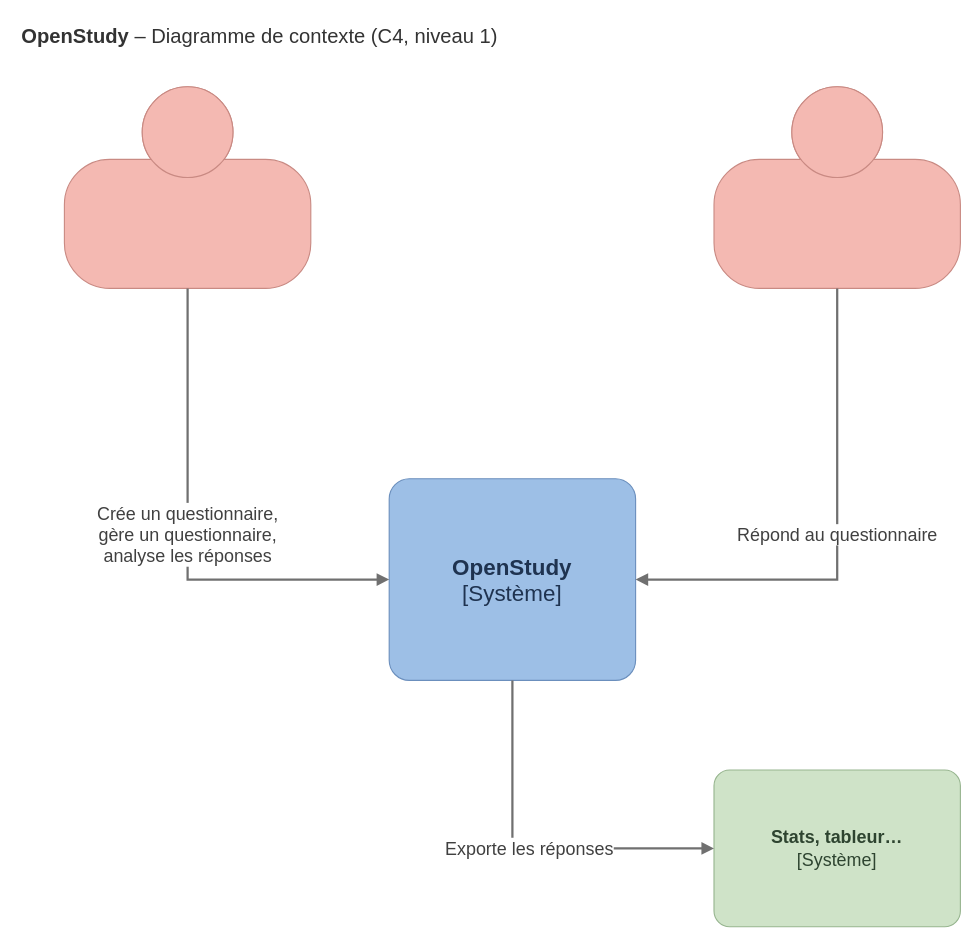
Some shapes in this 980 by 946 pixel diagram are drawn without their labels. Here are the shapes that lost their labels. From the top down, the centre of each, then its label:
At pixel 187 187: "Membre équipe recherche [Personne]".
At pixel 836 187: "Participant [Personne]".
